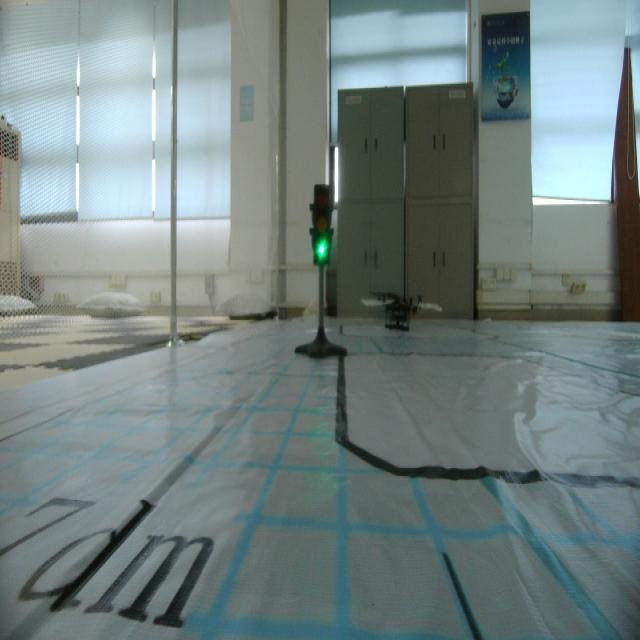green: (307, 178, 340, 274)
